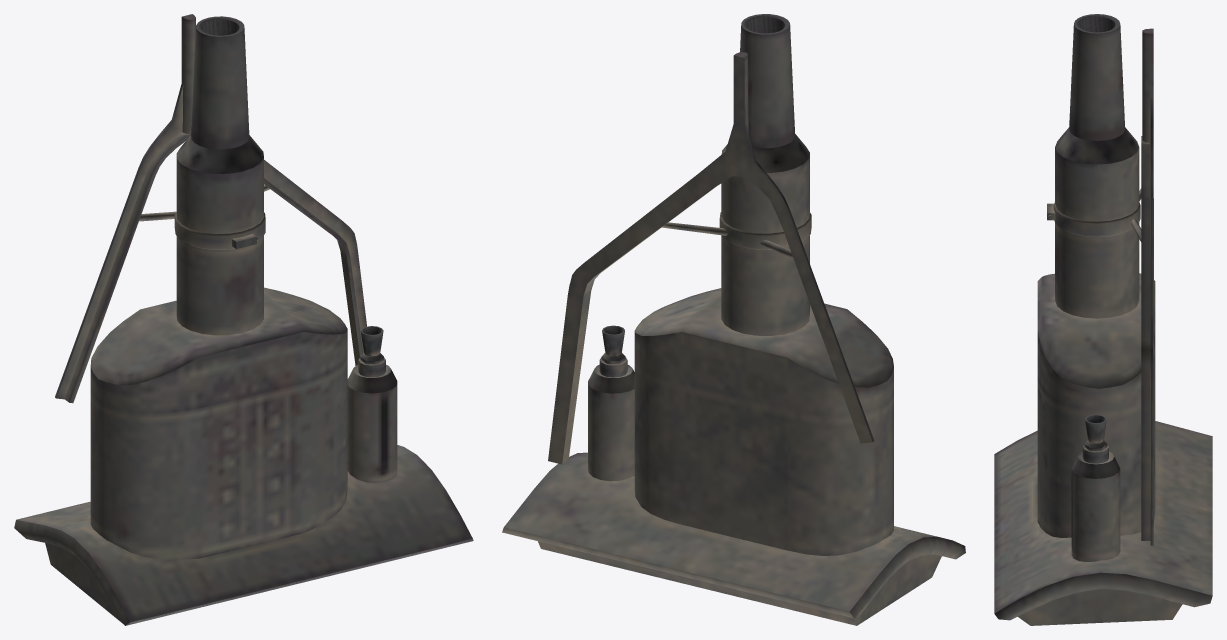
The model's file is Gun_06.glb.
The picture shows the model from 3 angles, left to right: view 1: azimuth 30°, elevation 25°; view 2: azimuth 150°, elevation 25°; view 3: azimuth 270°, elevation 25°; orthographic projection. The views are drawn at different scales.
Visible parts, largest first — view 1: set_0_group_0; view 2: set_0_group_0; view 3: set_0_group_0.
Part boxes in pixels (bbox=[...]): set_0_group_0: bbox=[14, 14, 473, 625]; set_0_group_0: bbox=[502, 14, 965, 625]; set_0_group_0: bbox=[994, 14, 1212, 625].
Bounding box in the file's own units: 0.7787 × 1.16 × 0.443.
Materials: 1 (1 with a texture image).
